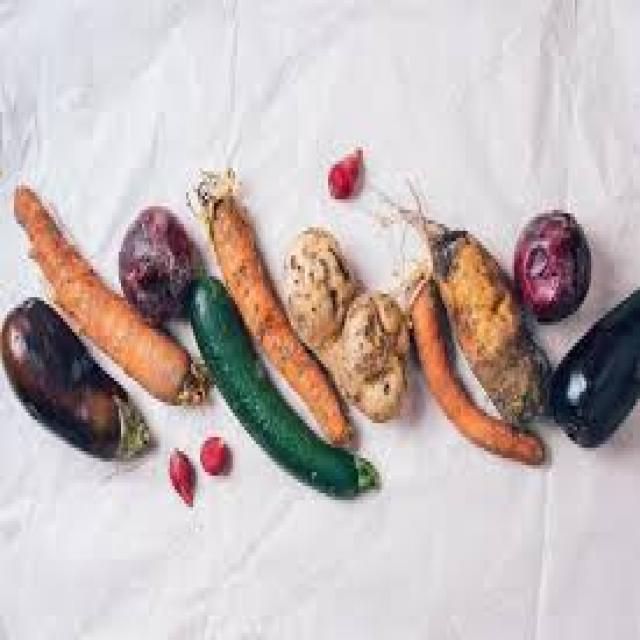organic waste: (186, 266, 380, 497), (9, 182, 205, 402), (382, 192, 552, 427), (196, 175, 342, 430), (403, 266, 542, 465), (0, 297, 149, 462), (549, 276, 638, 444), (338, 283, 408, 420), (279, 220, 354, 346), (116, 199, 194, 315), (512, 210, 591, 318), (165, 441, 193, 507), (324, 147, 358, 192), (195, 434, 226, 472)
